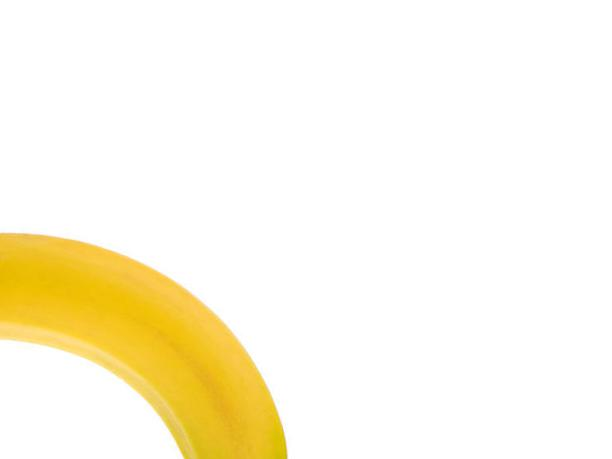banana: (1, 228, 291, 458)
